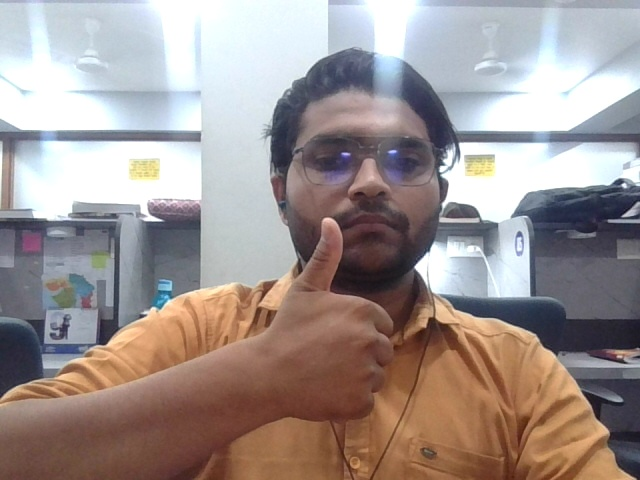ThumbsUp: (273, 217, 396, 429)
